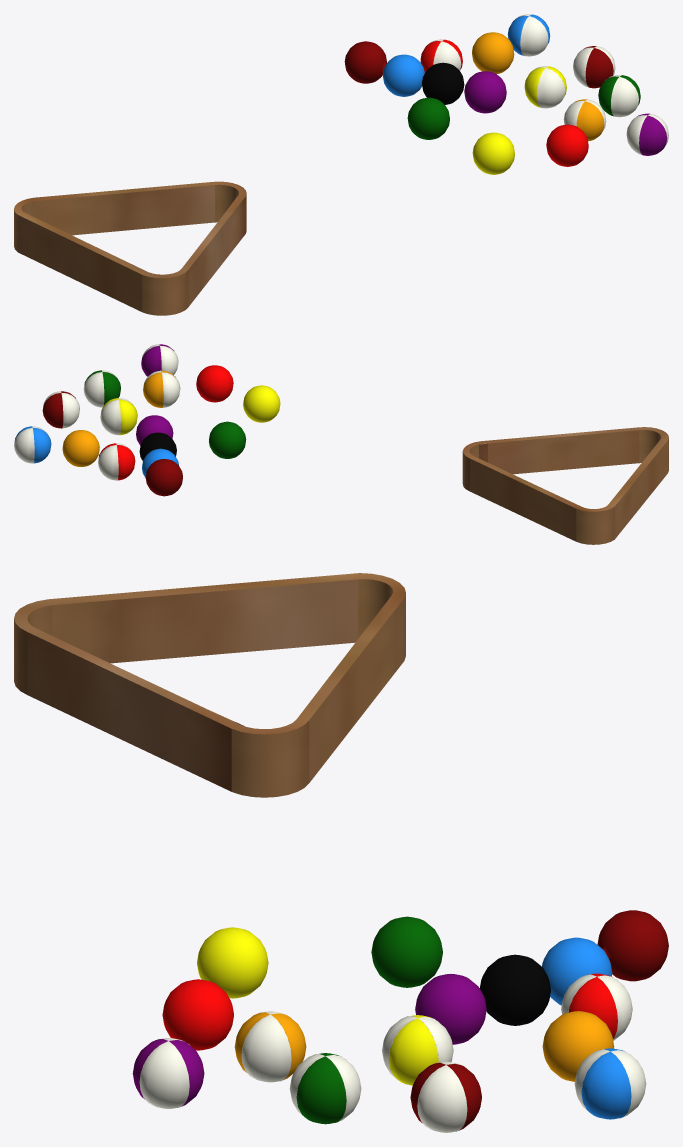
File: Billiard Balls and Rack.dae
3 views of the same model, one above another, from view 1: azimuth 30°, elevation 25°; view 2: azimuth 150°, elevation 25°; view 3: azimuth 270°, elevation 25° (orthographic). The views are drawn at different scales.
Visible parts, largest first — view 1: Billiard_Blue_Ball, Model; view 2: Billiard_Blue_Ball, Model; view 3: Billiard_Blue_Ball, Model.
Boxes of the visible parts, x1,y1,x2,y2 form: Billiard_Blue_Ball: [344, 14, 668, 174]; Model: [14, 181, 246, 315]; Billiard_Blue_Ball: [14, 344, 280, 496]; Model: [462, 427, 668, 544]; Billiard_Blue_Ball: [132, 910, 668, 1132]; Model: [14, 573, 405, 797].
Bounding box in the file's own units: 25.92 × 14.1 × 1.78.
Materials: 11 (1 with a texture image).
